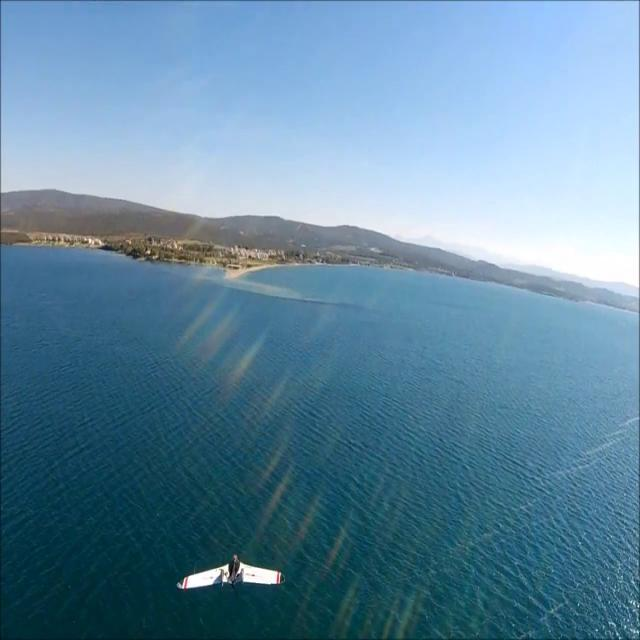iha: (203, 568, 259, 572)
